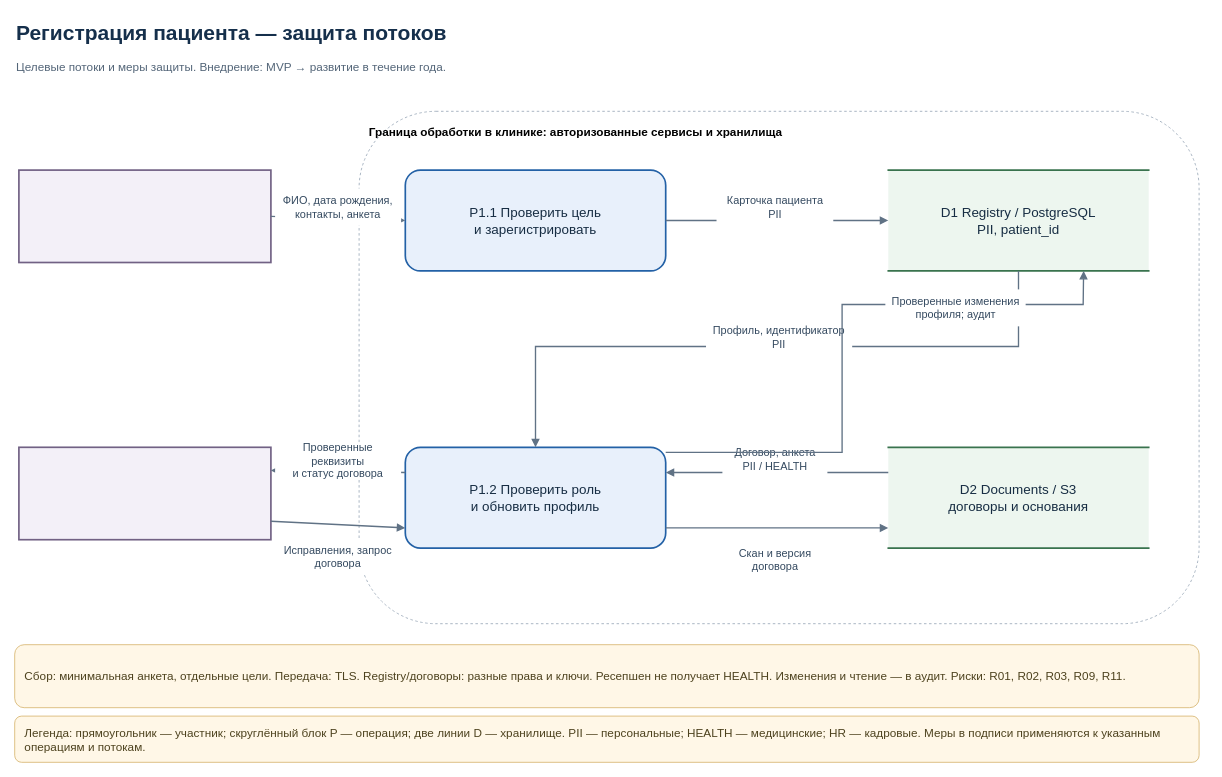
Some shapes in this 1222 by 777 pixel diagram are drawn without their labels. The shapes that lost their labels are listed below. From the top down, each one's centre as x and y in pixels, then its label:
At [144,216]: "Пациент [внешний участник процесса]".
At [144,493]: "Ресепшен [внешний участник процесса]".
